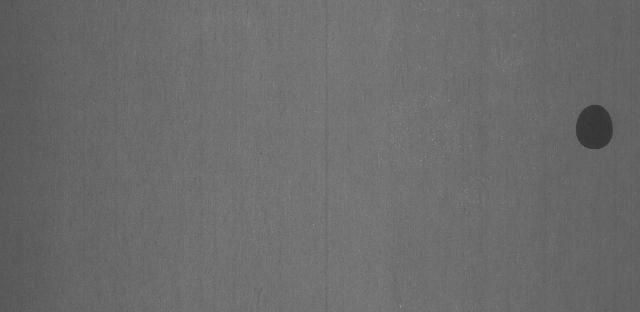oil_spot: (571, 94, 620, 164)
